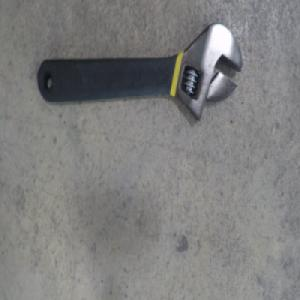AdjustableWrench: (36, 22, 240, 124)
